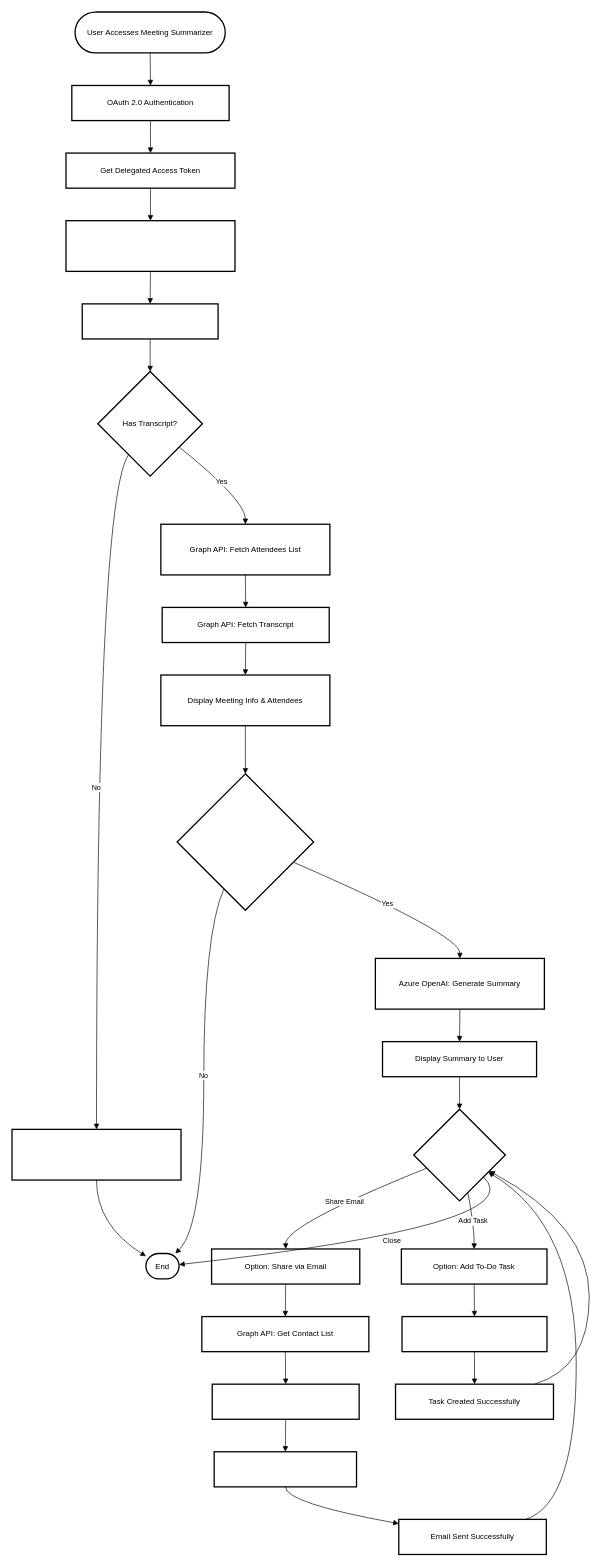
This 601x1566 diagram has some shape labels left out. The shapes that lost their labels are listed below. From the top down, each one's centre as x and y in pixels, then its label:
point 150,246: Graph API: Get User Meetings
point 149,321: User Selects Meeting
point 245,842: User Wants Summary?
point 96,1154: Display: No Transcript Available
point 459,1154: User Action?
point 474,1334: Graph API: Create Task
point 285,1401: User Selects Recipients
point 285,1469: Graph API: Send Email
